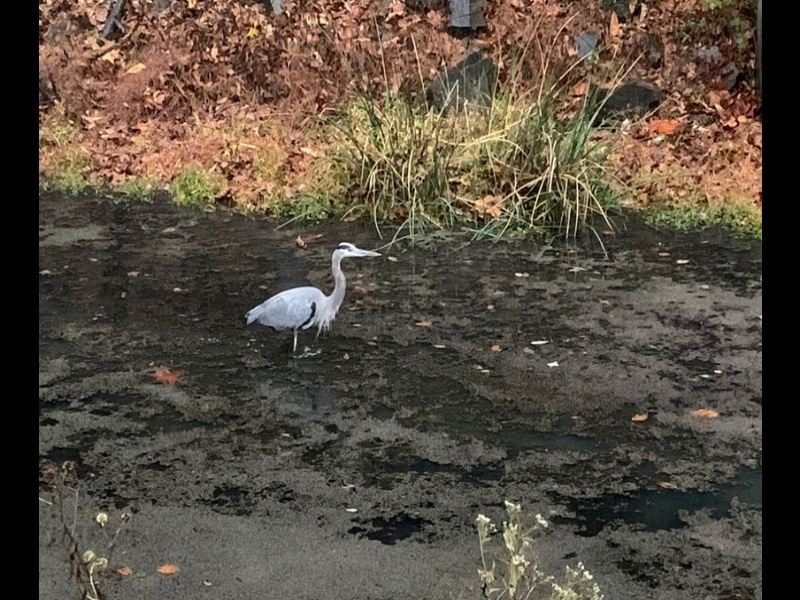heron: (240, 239, 380, 354)
